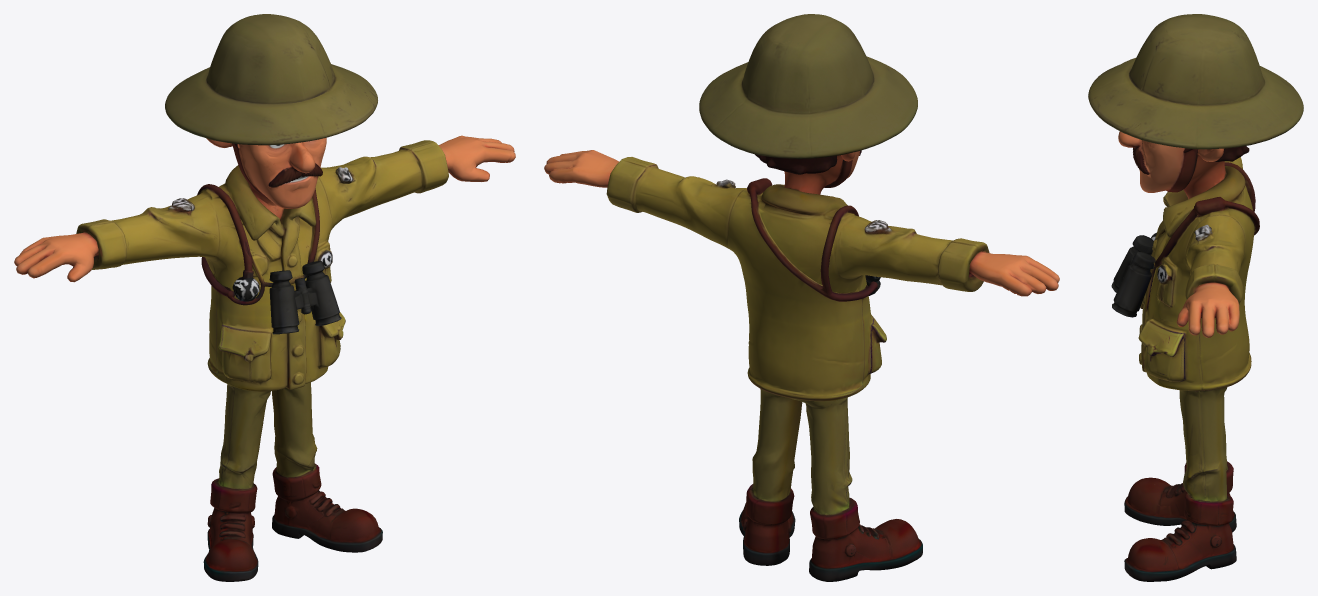
File: tourist_hunter.glb
The picture shows the model from 3 angles, left to right: view 1: azimuth 30°, elevation 25°; view 2: azimuth 150°, elevation 25°; view 3: azimuth 270°, elevation 25°; orthographic projection. The views are drawn at different scales.
Visible parts, largest first — view 1: tripo_node_0170a956-3f15-410f-bb2d-5767c239fc1b; view 2: tripo_node_0170a956-3f15-410f-bb2d-5767c239fc1b; view 3: tripo_node_0170a956-3f15-410f-bb2d-5767c239fc1b.
Boxes of the visible parts, x1=… form: tripo_node_0170a956-3f15-410f-bb2d-5767c239fc1b: x1=14, y1=14, x2=515, y2=581; tripo_node_0170a956-3f15-410f-bb2d-5767c239fc1b: x1=544, y1=14, x2=1059, y2=581; tripo_node_0170a956-3f15-410f-bb2d-5767c239fc1b: x1=1088, y1=14, x2=1303, y2=581.
Bounding box in the file's own units: 0.9794 × 0.9802 × 0.3667.
Materials: 1 (1 with a texture image).
